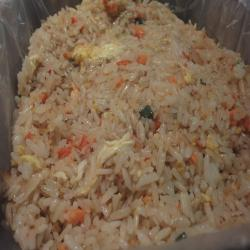rice: (41, 22, 204, 210)
